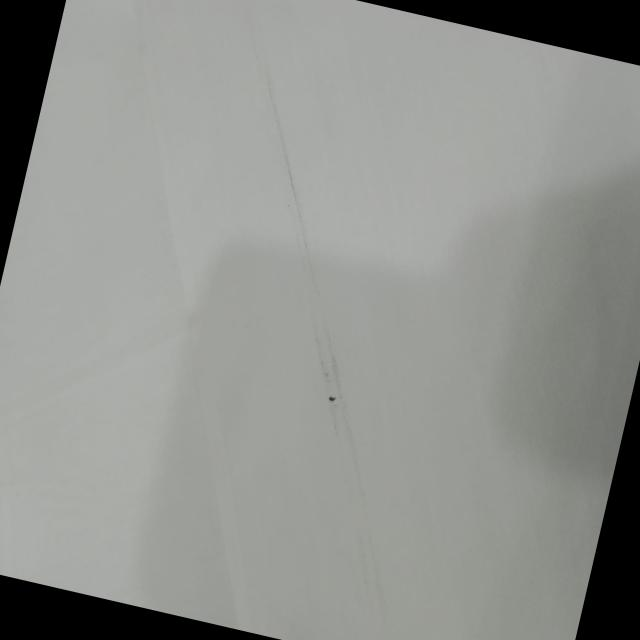stain: (276, 302, 379, 457)
